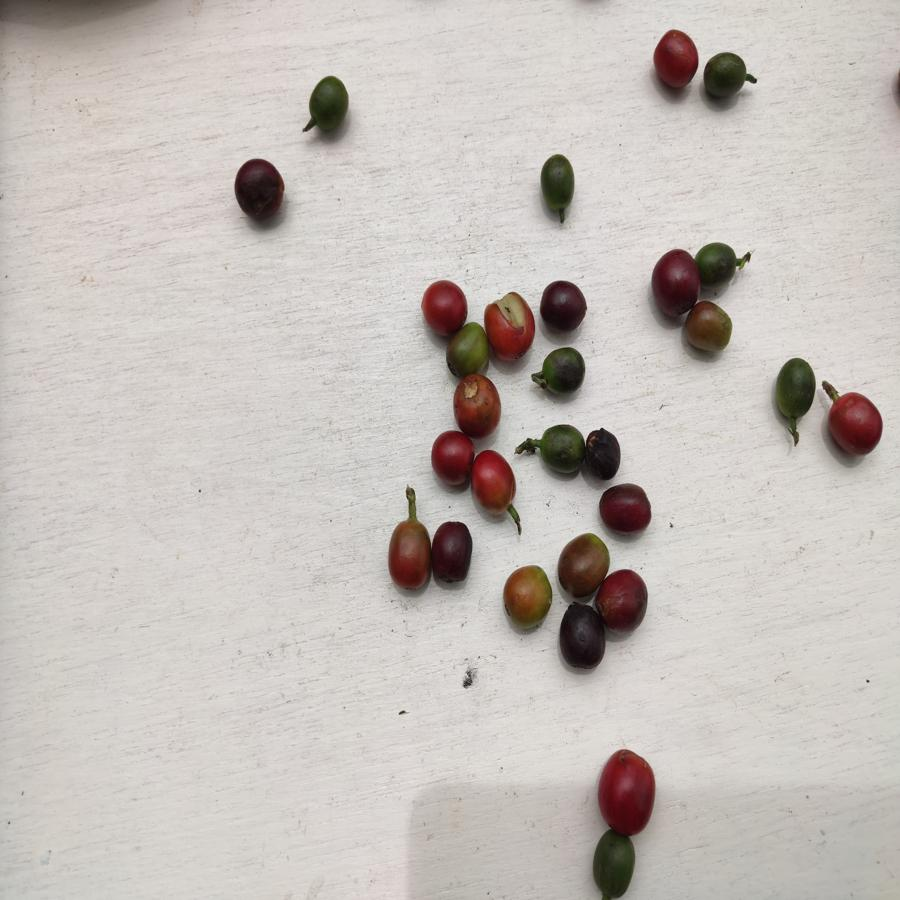Inmaduro: (775, 354, 819, 423), (592, 831, 634, 898), (535, 153, 576, 216), (700, 48, 748, 100), (540, 423, 585, 477), (543, 343, 586, 398), (309, 76, 350, 133), (698, 241, 738, 288)
Maduro: (596, 745, 659, 833), (826, 389, 885, 455), (483, 293, 537, 359), (471, 450, 516, 517), (651, 29, 700, 90), (428, 431, 478, 486), (420, 274, 467, 327)
Pinton: (498, 563, 554, 628), (554, 534, 604, 598), (389, 522, 431, 593), (454, 375, 503, 433), (684, 302, 737, 354), (447, 324, 490, 377)
Sobremaduro: (650, 244, 699, 313), (556, 604, 605, 672), (599, 567, 648, 635), (235, 156, 285, 222), (599, 482, 656, 536), (432, 520, 474, 584), (540, 281, 588, 329), (585, 430, 623, 481)
